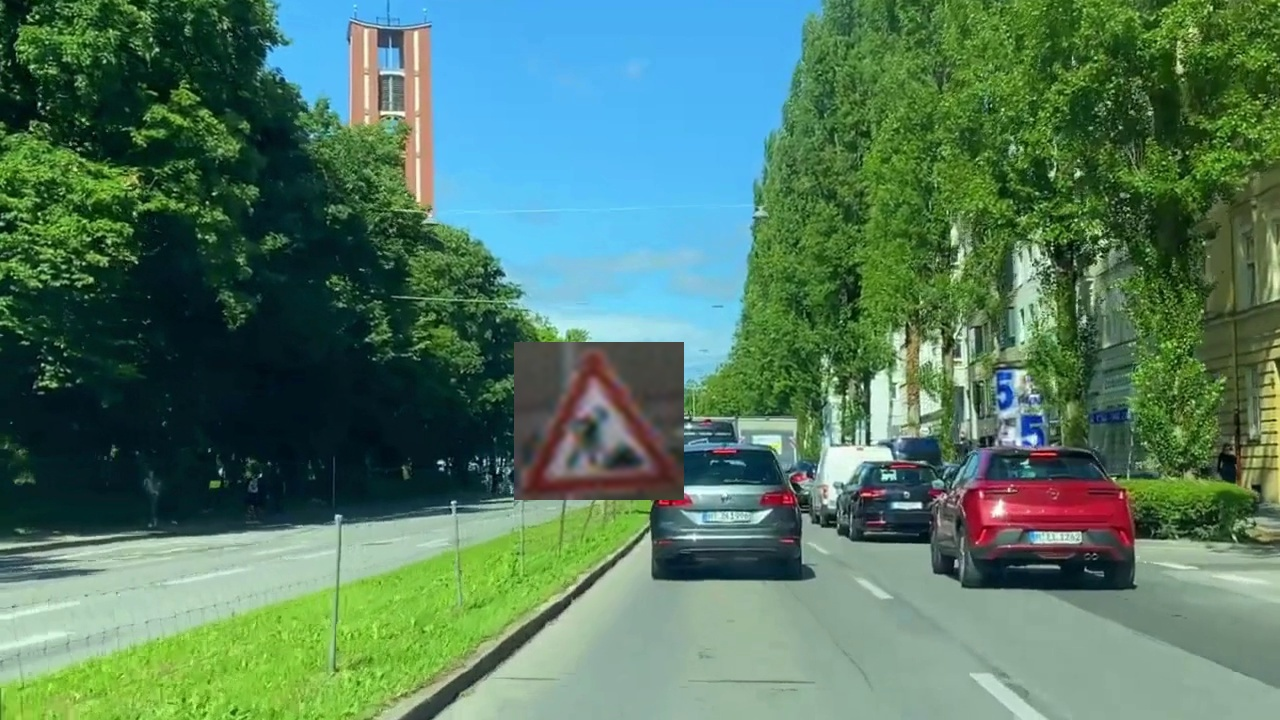Road work: (514, 342, 684, 500)
